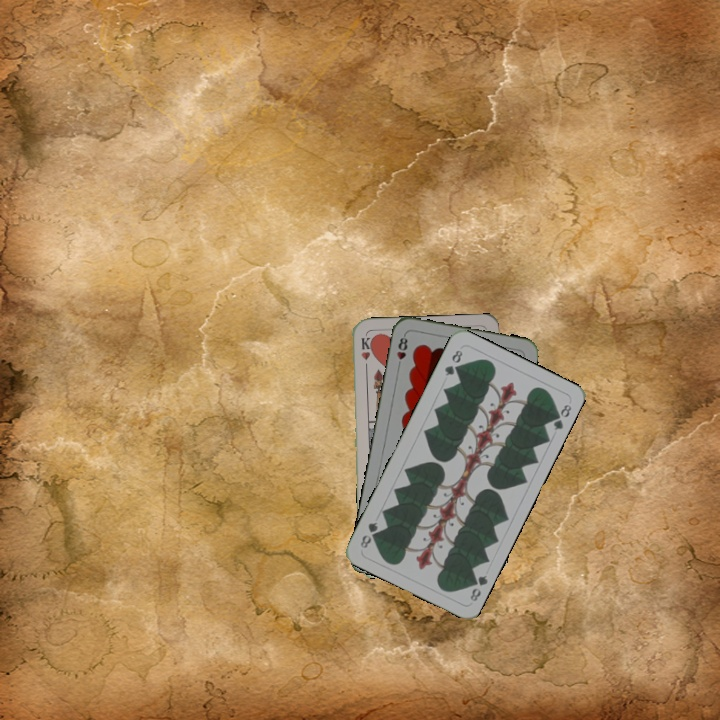G8: (465, 571, 490, 604), (441, 346, 465, 378)
H8: (393, 331, 410, 371)
HK: (357, 333, 374, 373)
